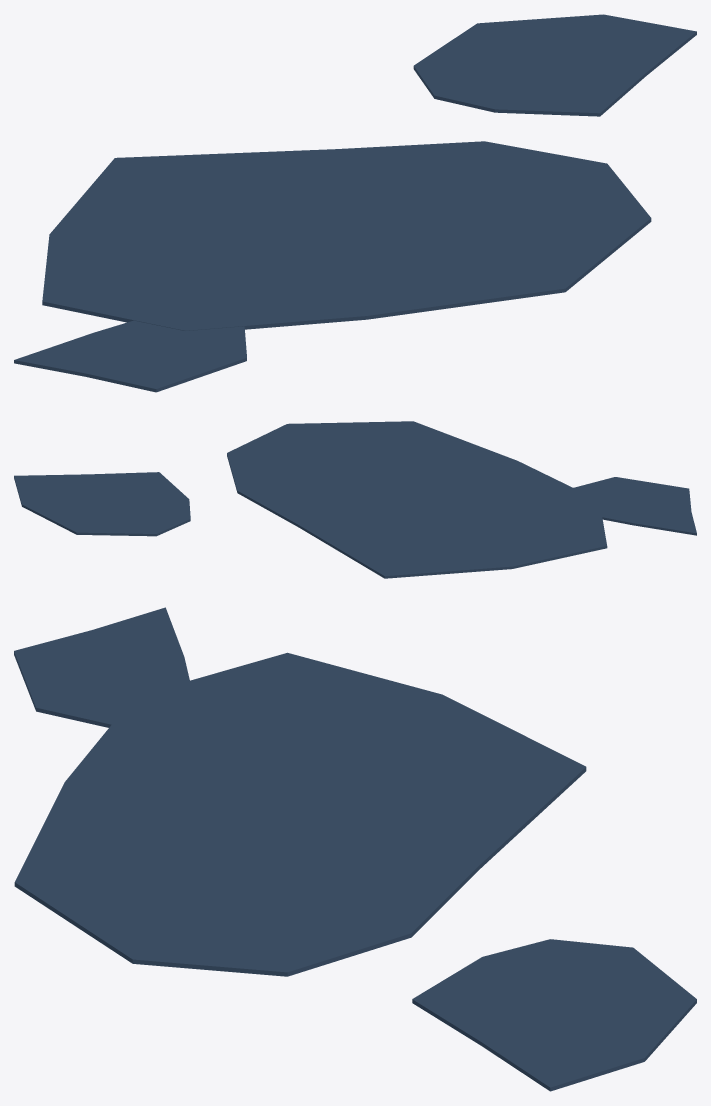
File: gothic_puddle.glb
3 renders of one model, top to bottom at view 1: azimuth 30°, elevation 25°; view 2: azimuth 150°, elevation 25°; view 3: azimuth 270°, elevation 25°, orthographic. The views are drawn at different scales.
Parts seen in each view (by area): view 1: gothic_puddle; view 2: gothic_puddle; view 3: gothic_puddle.
Boxes of the visible parts, x1=… form: gothic_puddle: x1=14, y1=14, x2=696, y2=392; gothic_puddle: x1=14, y1=421, x2=696, y2=578; gothic_puddle: x1=14, y1=607, x2=696, y2=1091.
Bounding box in the file's own units: 2.38 × 0.01 × 1.43.
